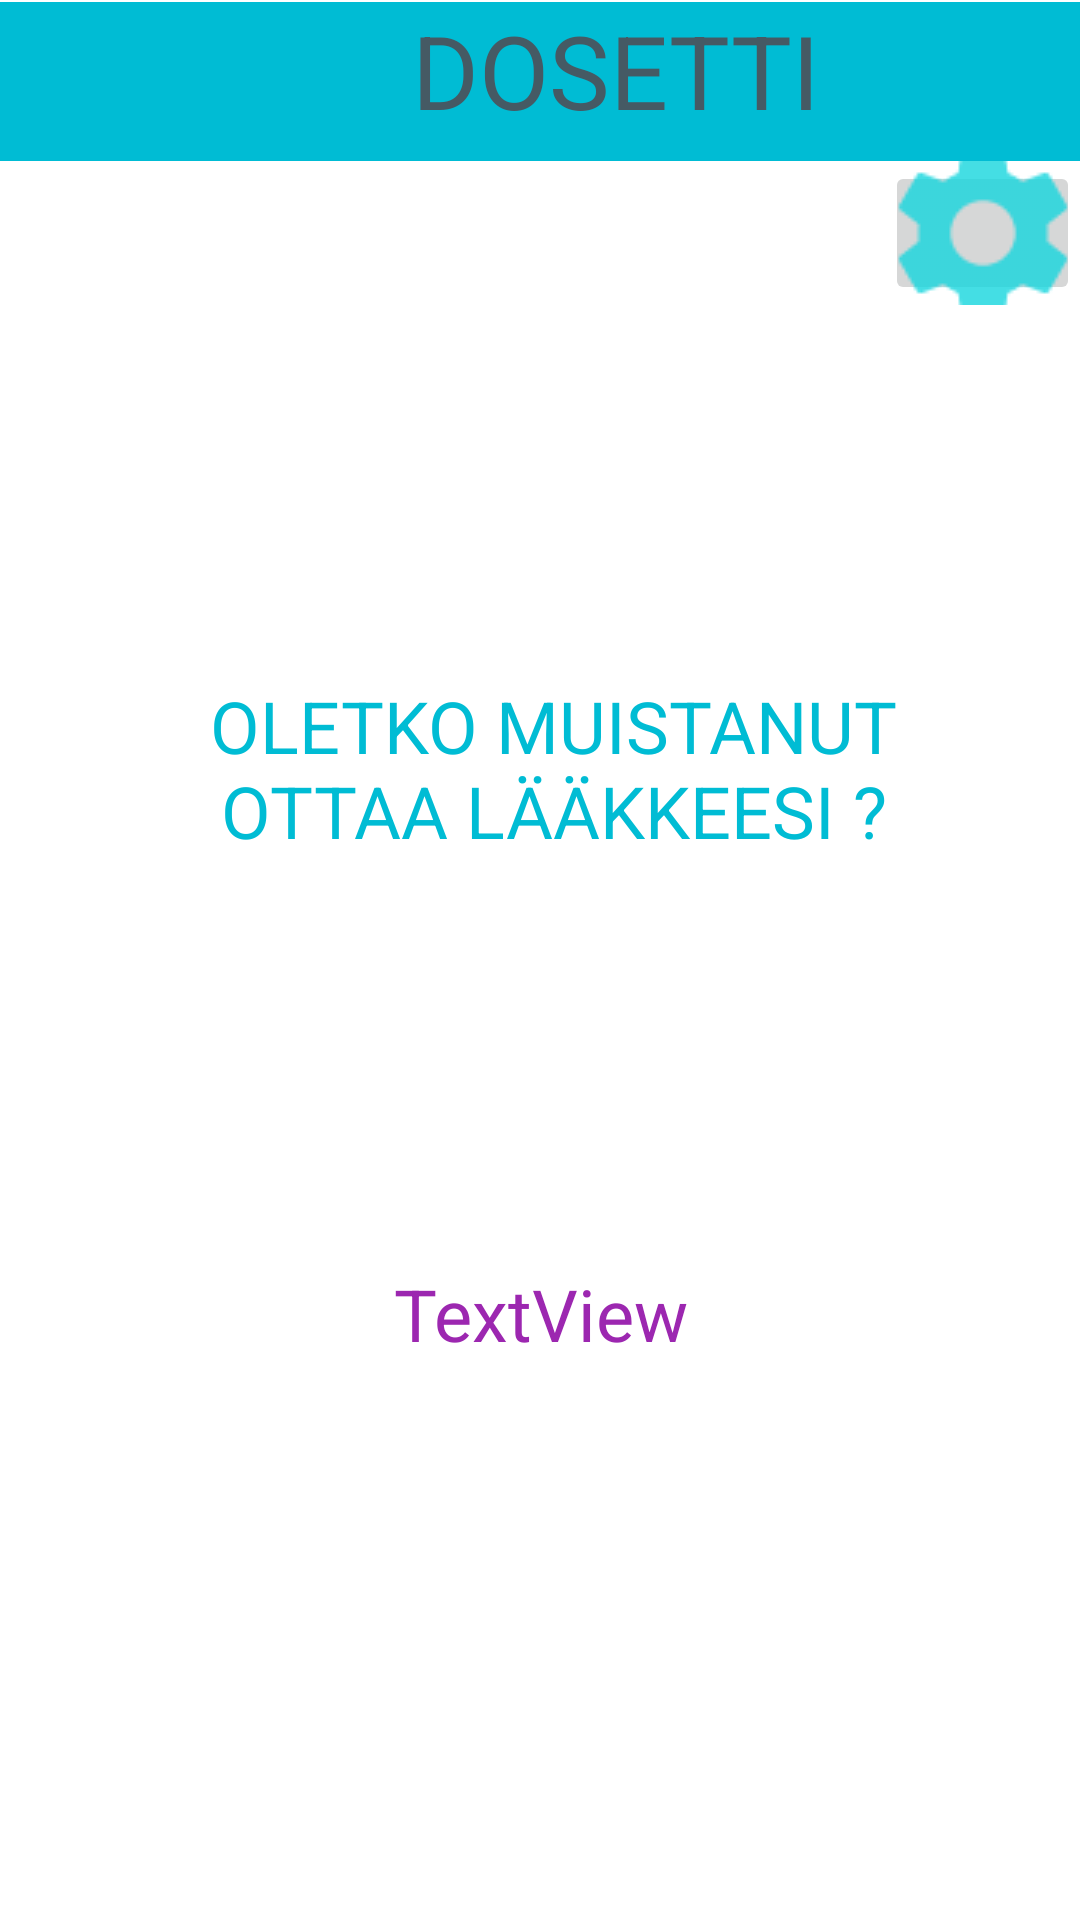

Locate icon controls on the screen. Image size 1080px×1920px, boxes as (x1, y1, x2, y2).
setting: (897, 161, 1068, 305)
